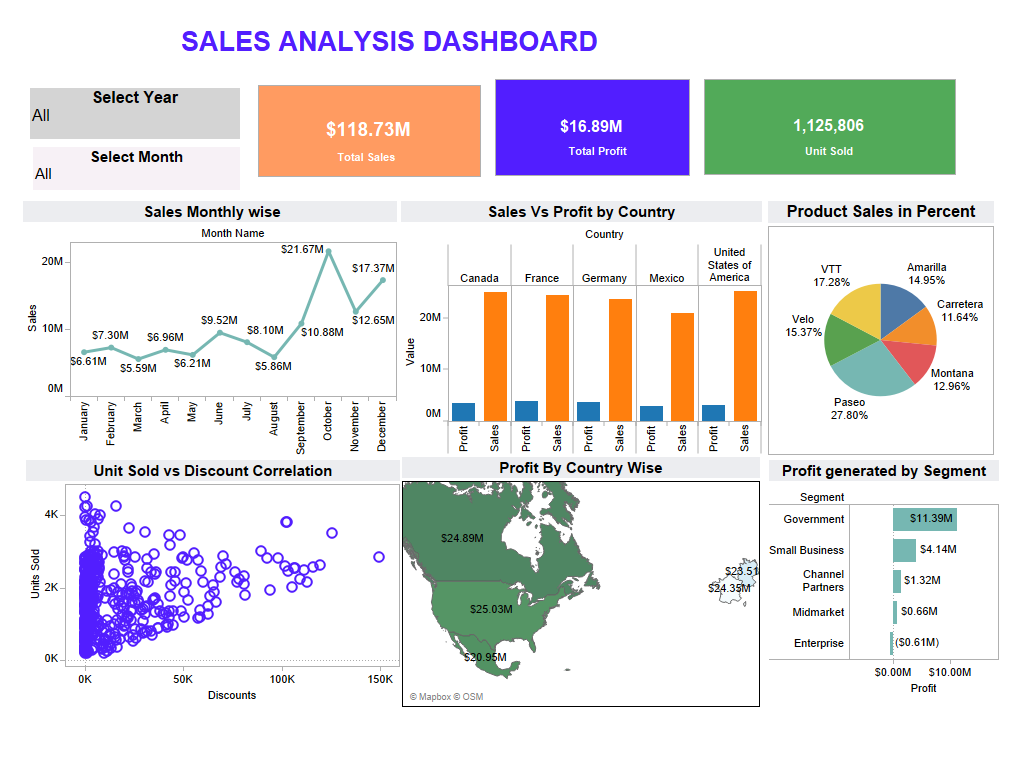

This screenshot's page, from the dashboard's own definition file:
{"tool":"tableau","page":{"name":"Dashboard 1","canvas":[1024,768],"ordinal":0},"visuals":[{"type":"text","box":[38,23,703,38]},{"type":"worksheet","title":"profit","mark":"Automatic","box":[495,79,195,97]},{"type":"worksheet","title":"unit sold","mark":"Automatic","box":[704,79,252,96]},{"type":"worksheet","title":"sales","mark":"Automatic","box":[258,85,223,92]},{"type":"filter","title":"discount","param":"[federated.1b85isn1t9nv351cotnjf12m4w0z].[yr:Year:ok]","box":[30,88,210,51]},{"type":"text","box":[560,137,75,30]},{"type":"text","box":[787,137,84,30]},{"type":"worksheet","title":"month","mark":"Automatic","box":[37,138,173,77]},{"type":"text","box":[329,143,75,30]},{"type":"filter","title":"month","param":"[federated.1b85isn1t9nv351cotnjf12m4w0z].[none:Month Name:nk]","box":[33,147,207,43]},{"type":"worksheet","title":"monthly sales","mark":"Line","rows":["Sales"],"cols":["Month Name"],"box":[23,201,374,256]},{"type":"worksheet","title":"Profit by country","mark":"Automatic","cols":["Country"],"box":[401,201,361,253]},{"type":"worksheet","title":"PRODUCT SALES BY PERT","mark":"Pie","box":[768,201,226,254]},{"type":"worksheet","title":"map","mark":"Multipolygon","box":[402,457,358,250]},{"type":"worksheet","title":"discount","mark":"Automatic","rows":["Units Sold"],"cols":["Discounts"],"box":[26,460,374,246]},{"type":"worksheet","title":"profit by segment","mark":"Bar","rows":["Segment"],"cols":["Profit"],"box":[769,460,230,253]}]}

Visuals, with their boxes in screenshot pixels (x1, y1, x2, y2), scaled from the page's 1024x768 canvas onto the 1024x768 screenshot:
text: {"left": 38, "top": 23, "right": 741, "bottom": 61}
"profit" worksheet: {"left": 495, "top": 79, "right": 690, "bottom": 176}
"unit sold" worksheet: {"left": 704, "top": 79, "right": 956, "bottom": 175}
"sales" worksheet: {"left": 258, "top": 85, "right": 481, "bottom": 177}
"discount" filter: {"left": 30, "top": 88, "right": 240, "bottom": 139}
text: {"left": 560, "top": 137, "right": 635, "bottom": 167}
text: {"left": 787, "top": 137, "right": 871, "bottom": 167}
"month" worksheet: {"left": 37, "top": 138, "right": 210, "bottom": 215}
text: {"left": 329, "top": 143, "right": 404, "bottom": 173}
"month" filter: {"left": 33, "top": 147, "right": 240, "bottom": 190}
"monthly sales" worksheet (Line marks): {"left": 23, "top": 201, "right": 397, "bottom": 457}
"Profit by country" worksheet: {"left": 401, "top": 201, "right": 762, "bottom": 454}
"PRODUCT SALES BY PERT" worksheet (Pie marks): {"left": 768, "top": 201, "right": 994, "bottom": 455}
"map" worksheet (Multipolygon marks): {"left": 402, "top": 457, "right": 760, "bottom": 707}
"discount" worksheet: {"left": 26, "top": 460, "right": 400, "bottom": 706}
"profit by segment" worksheet (Bar marks): {"left": 769, "top": 460, "right": 999, "bottom": 713}
